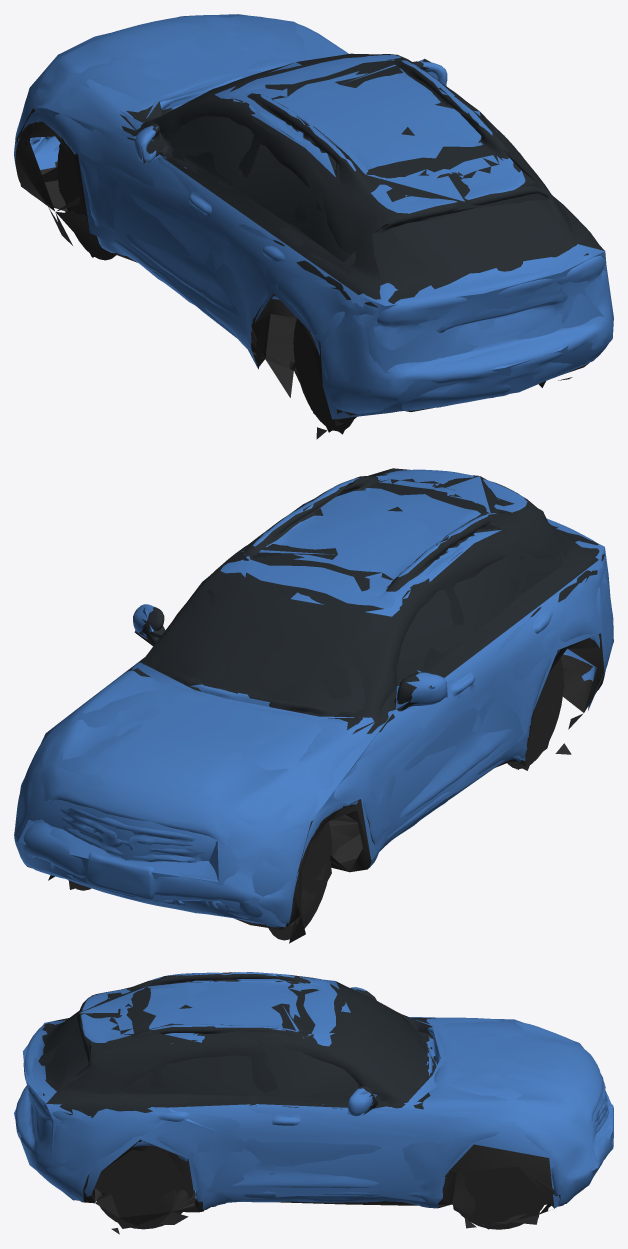
The model's file is infiniti-fx37.glb.
3 renders of one model, top to bottom at view 1: azimuth 30°, elevation 25°; view 2: azimuth 150°, elevation 25°; view 3: azimuth 270°, elevation 25°, orthographic. The views are drawn at different scales.
Visible parts, largest first — view 1: body, far; view 2: body, far; view 3: body, far.
Part boxes in pixels (x1=…): body: x1=14, y1=15, x2=612, y2=439; far: x1=16, y1=14, x2=613, y2=434; body: x1=14, y1=469, x2=613, y2=943; far: x1=14, y1=468, x2=613, y2=942; body: x1=15, y1=972, x2=613, y2=1234; far: x1=14, y1=972, x2=612, y2=1229.
Bounding box in the file's own units: 2.21 × 1.8 × 4.9.
